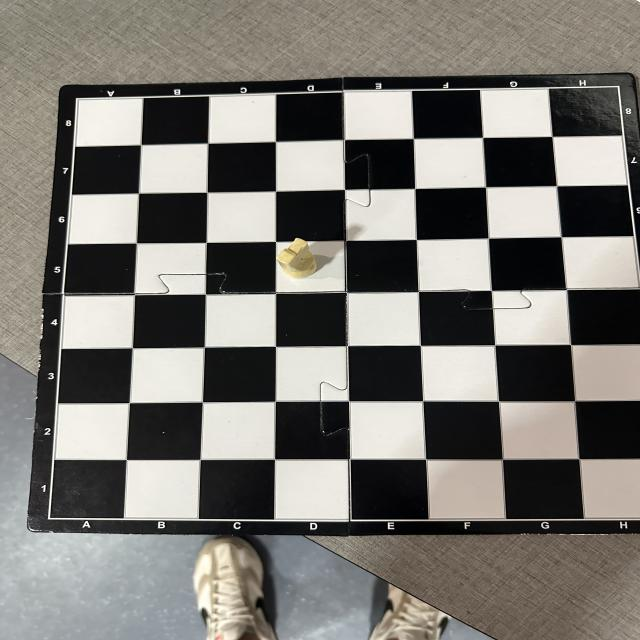White-Knight: (277, 238, 316, 278)
